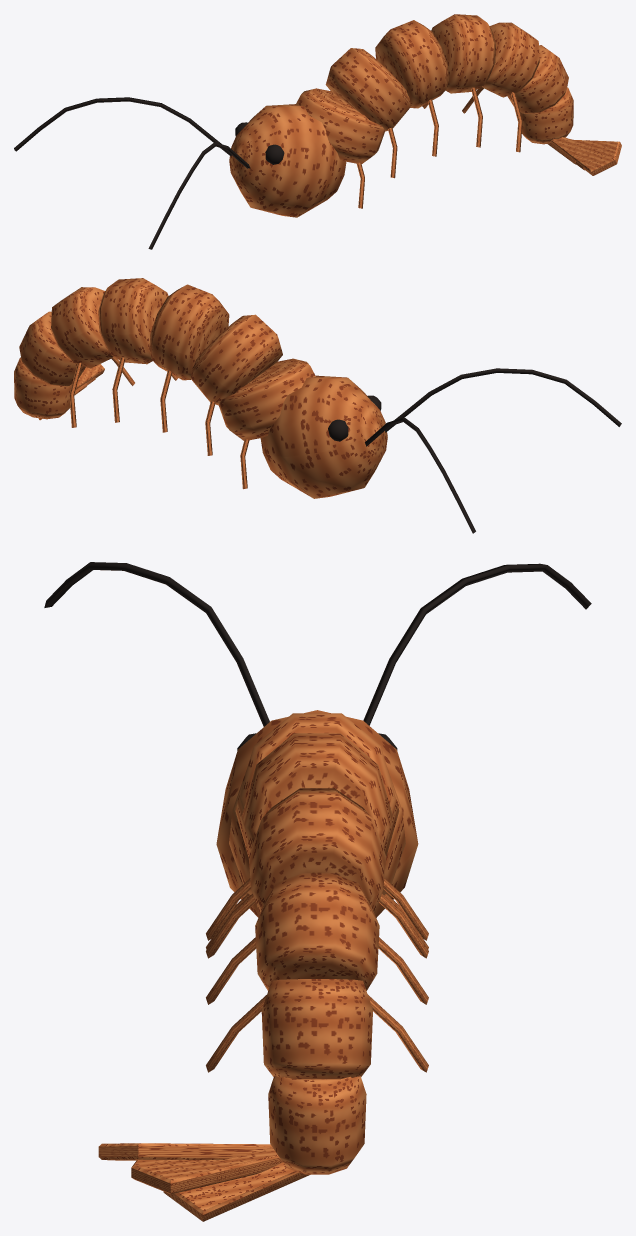
The model's file is dryshrimp.obj.
3 views of the same model, one above another, from view 1: azimuth 30°, elevation 25°; view 2: azimuth 150°, elevation 25°; view 3: azimuth 270°, elevation 25° (orthographic). The views are drawn at different scales.
Visible parts, largest first — view 1: dryshrimp_0_surface; view 2: dryshrimp_0_surface; view 3: dryshrimp_0_surface.
Boxes of the visible parts, left/top/right/bottom form: dryshrimp_0_surface: left=14, top=14, right=621, bottom=249; dryshrimp_0_surface: left=14, top=278, right=621, bottom=533; dryshrimp_0_surface: left=44, top=562, right=591, bottom=1221.
Size of the model in its own units: 0.4268 by 0.1319 by 0.2028.
Materials: 1 (1 with a texture image).
